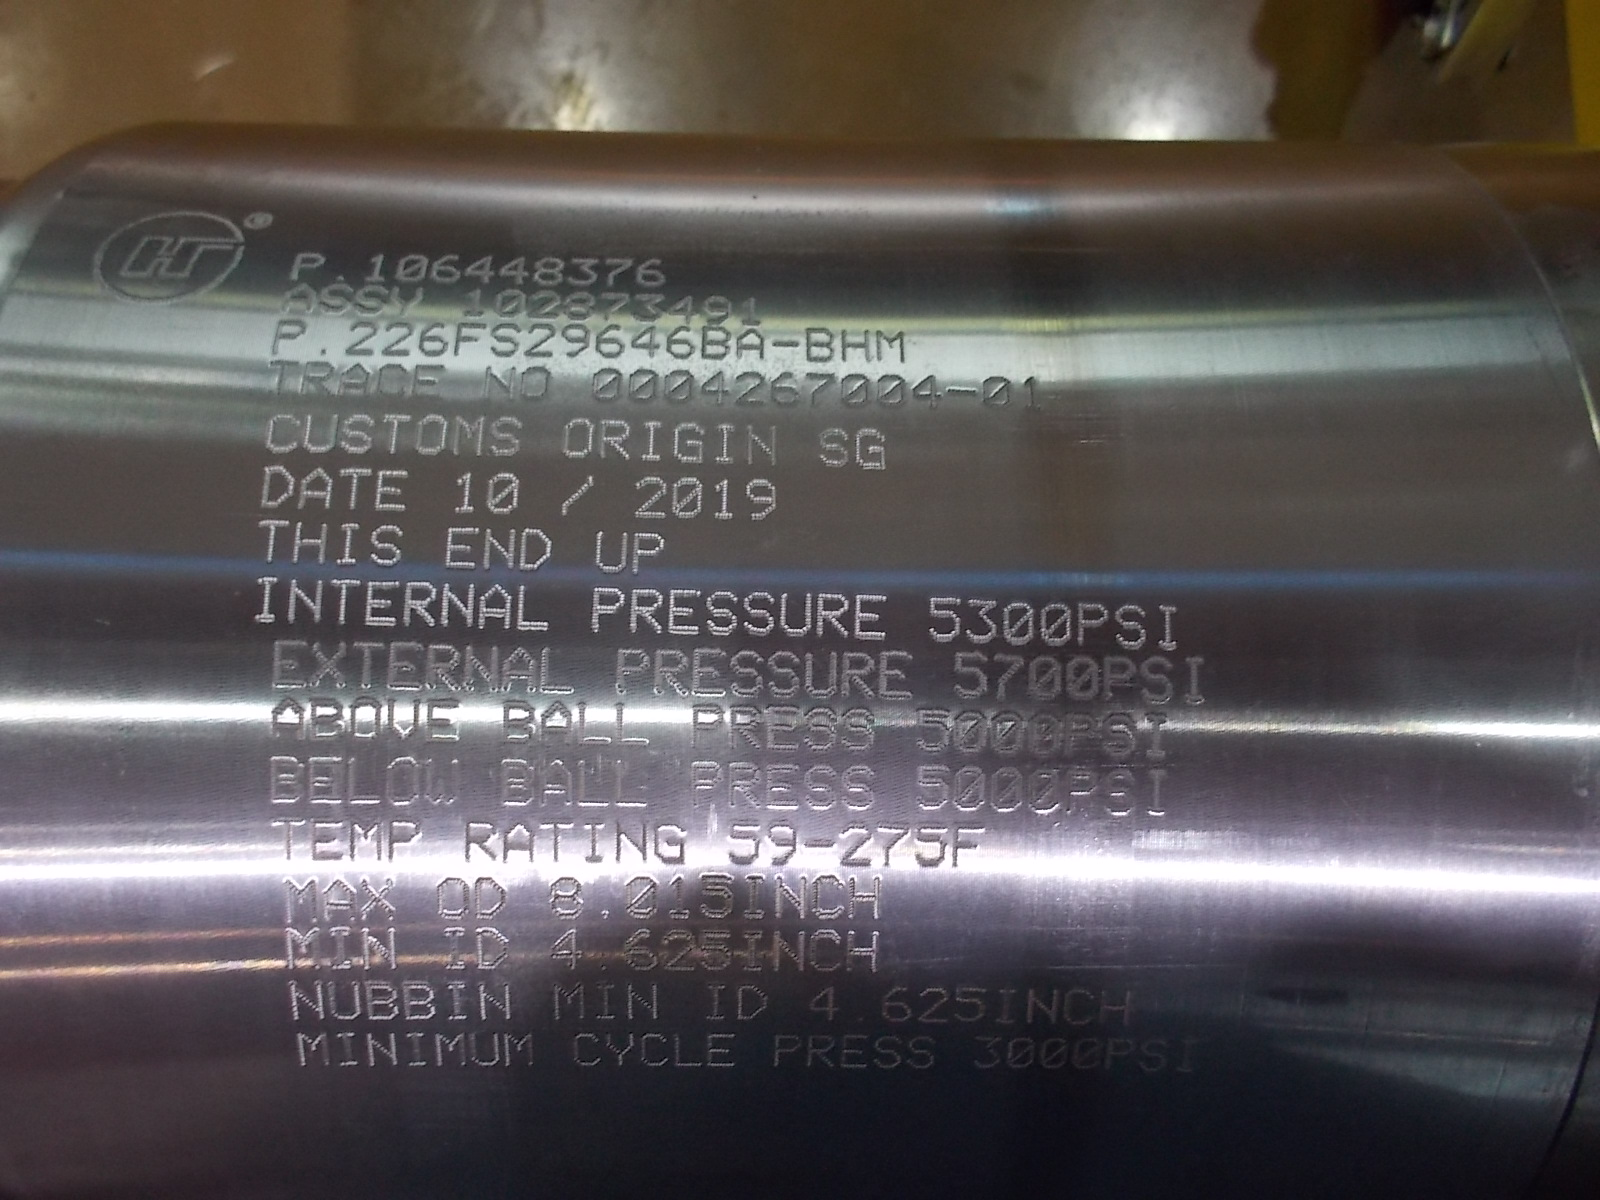character: (537, 924, 592, 974), (552, 470, 600, 528), (362, 517, 414, 568), (850, 587, 900, 642), (1136, 653, 1183, 710), (477, 466, 529, 517), (539, 872, 587, 926), (850, 421, 897, 476), (372, 463, 417, 519), (355, 924, 404, 976), (262, 754, 306, 811), (382, 637, 425, 695), (472, 924, 520, 976), (615, 926, 661, 979), (266, 634, 307, 693), (496, 695, 538, 754), (289, 514, 334, 568), (278, 926, 328, 976), (515, 579, 557, 637), (498, 640, 539, 698), (738, 418, 785, 470), (625, 473, 671, 524), (295, 460, 339, 514), (877, 645, 917, 705), (1140, 766, 1180, 826), (947, 648, 990, 703), (280, 977, 326, 1027), (695, 868, 740, 921), (307, 639, 350, 693), (278, 874, 321, 928), (587, 579, 626, 638), (441, 522, 483, 577), (494, 756, 535, 812), (281, 577, 326, 628), (425, 693, 465, 750), (357, 872, 402, 923), (740, 471, 784, 523), (668, 417, 711, 470), (266, 695, 309, 747), (344, 753, 386, 807), (848, 872, 889, 926), (810, 421, 850, 476), (423, 754, 464, 809), (844, 929, 892, 976), (629, 529, 674, 579), (430, 874, 474, 924), (425, 637, 461, 697), (683, 701, 724, 754), (611, 756, 653, 809), (724, 816, 766, 868), (363, 575, 401, 633), (306, 753, 344, 811), (1100, 766, 1140, 821), (286, 1025, 333, 1071), (438, 579, 477, 634), (539, 643, 578, 698), (913, 763, 952, 818), (840, 645, 877, 705), (518, 521, 558, 574), (925, 592, 965, 645), (612, 645, 651, 700), (1073, 597, 1112, 652), (763, 701, 803, 755), (809, 872, 848, 926), (1026, 763, 1065, 817), (624, 979, 669, 1026), (260, 408, 302, 458), (477, 579, 515, 634), (803, 645, 840, 701), (535, 756, 573, 812), (1102, 711, 1144, 761), (838, 817, 876, 872), (766, 644, 801, 703), (447, 408, 488, 460), (488, 408, 528, 460), (626, 586, 666, 638), (345, 693, 386, 745), (573, 696, 614, 747), (461, 640, 498, 697), (340, 411, 379, 464), (724, 701, 763, 754), (912, 819, 951, 872), (546, 977, 590, 1024), (265, 816, 307, 863), (475, 979, 518, 1027), (401, 579, 438, 633), (538, 696, 573, 754), (1065, 763, 1100, 821), (321, 872, 358, 928), (651, 648, 690, 700), (386, 693, 425, 745), (614, 816, 653, 867), (697, 926, 736, 978), (558, 411, 596, 464), (483, 521, 518, 577), (840, 703, 878, 756), (386, 754, 423, 807), (573, 756, 611, 809), (873, 982, 917, 1027), (1096, 989, 1144, 1031), (951, 823, 991, 872), (993, 650, 1029, 705), (309, 693, 345, 747), (952, 764, 989, 818), (436, 921, 472, 976), (740, 587, 779, 638), (307, 813, 346, 863), (257, 463, 295, 514), (779, 586, 816, 638), (803, 703, 840, 755), (386, 811, 423, 862), (437, 976, 475, 1027), (499, 1029, 543, 1073), (1061, 711, 1102, 758), (698, 1025, 740, 1071), (666, 586, 703, 639), (729, 644, 766, 697), (1028, 652, 1065, 705), (989, 764, 1026, 817), (876, 819, 912, 872), (614, 700, 654, 747), (362, 1029, 402, 1076), (338, 463, 372, 519), (690, 648, 729, 697), (1112, 603, 1151, 652), (346, 813, 386, 862), (474, 875, 513, 924), (770, 872, 809, 921), (769, 926, 808, 976), (669, 474, 707, 524), (591, 528, 629, 579), (1036, 600, 1073, 650), (624, 872, 661, 923), (304, 407, 340, 459), (252, 517, 289, 568), (703, 587, 740, 639), (999, 599, 1036, 650), (1100, 653, 1136, 705), (1144, 710, 1180, 761), (816, 586, 850, 642), (460, 816, 499, 863), (499, 816, 538, 863), (950, 708, 989, 756), (632, 417, 668, 470), (1065, 652, 1100, 705), (661, 926, 697, 979), (379, 408, 413, 463), (326, 977, 363, 1027), (731, 982, 774, 1025), (538, 816, 577, 862), (965, 592, 999, 645), (766, 816, 800, 868), (989, 982, 1024, 1032), (1015, 372, 1054, 417), (363, 977, 401, 1024), (413, 408, 447, 460), (326, 577, 360, 629), (915, 708, 951, 756), (401, 976, 437, 1024), (350, 639, 382, 695), (707, 471, 740, 524), (1024, 708, 1060, 758), (736, 925, 769, 978), (1024, 982, 1060, 1031), (270, 315, 310, 358), (409, 358, 450, 401), (950, 982, 989, 1026), (564, 1029, 603, 1073), (249, 574, 281, 628), (596, 417, 632, 464), (653, 821, 689, 867), (808, 929, 844, 976), (989, 708, 1024, 756), (695, 321, 734, 364), (265, 355, 302, 400), (969, 1031, 1005, 1076), (374, 358, 409, 405), (1070, 1032, 1105, 1079), (740, 868, 769, 925), (1151, 603, 1186, 650), (577, 814, 611, 862), (1136, 1035, 1170, 1083), (1170, 1035, 1204, 1083), (805, 984, 845, 1025), (341, 318, 380, 359), (873, 325, 911, 368), (481, 361, 519, 403), (336, 361, 373, 405), (636, 1027, 669, 1076), (874, 371, 910, 416), (1105, 1032, 1136, 1083), (910, 369, 944, 416), (603, 1029, 636, 1076), (431, 1029, 467, 1071), (627, 321, 665, 362), (447, 466, 477, 517), (803, 324, 839, 366), (803, 368, 838, 411), (334, 514, 362, 568), (1183, 653, 1209, 710), (590, 979, 624, 1024), (664, 872, 694, 921), (698, 979, 731, 1025), (917, 982, 950, 1027), (299, 359, 336, 398), (588, 364, 625, 405), (660, 366, 697, 406), (732, 368, 769, 408), (838, 371, 874, 411), (488, 319, 523, 361), (711, 417, 738, 470), (1062, 988, 1096, 1031), (328, 924, 355, 976), (767, 1034, 805, 1071), (1038, 1034, 1070, 1079), (557, 321, 593, 361), (380, 319, 416, 359), (805, 1031, 839, 1073), (671, 1027, 702, 1074), (519, 361, 552, 403), (1005, 1034, 1038, 1076), (450, 319, 488, 355), (869, 1034, 905, 1073), (905, 1034, 940, 1073), (769, 368, 803, 408), (467, 1029, 499, 1071), (632, 255, 670, 290), (697, 368, 732, 406), (980, 372, 1015, 410), (287, 250, 326, 284), (523, 321, 557, 361), (593, 321, 627, 361), (626, 366, 660, 405), (840, 325, 873, 366), (734, 326, 769, 364), (280, 284, 319, 316), (734, 292, 770, 328), (389, 282, 426, 316), (416, 319, 450, 355), (333, 1029, 362, 1071), (391, 252, 430, 284), (665, 321, 695, 362), (488, 289, 529, 318), (354, 282, 389, 316), (632, 291, 668, 325), (404, 1030, 431, 1075), (462, 251, 499, 284), (529, 255, 566, 287), (839, 1034, 869, 1073), (598, 291, 632, 325), (319, 284, 354, 316), (598, 255, 632, 287), (668, 291, 700, 325), (700, 292, 734, 325), (499, 251, 529, 287), (566, 255, 598, 287), (430, 252, 462, 284), (456, 285, 486, 319), (562, 292, 597, 321), (529, 289, 562, 319), (363, 250, 391, 284), (942, 381, 979, 400), (801, 836, 838, 852), (769, 337, 801, 350), (596, 908, 611, 921), (854, 1015, 871, 1025), (334, 274, 345, 284), (317, 345, 328, 355)
